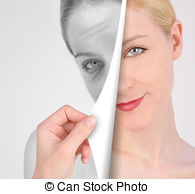face: (64, 1, 184, 140)
